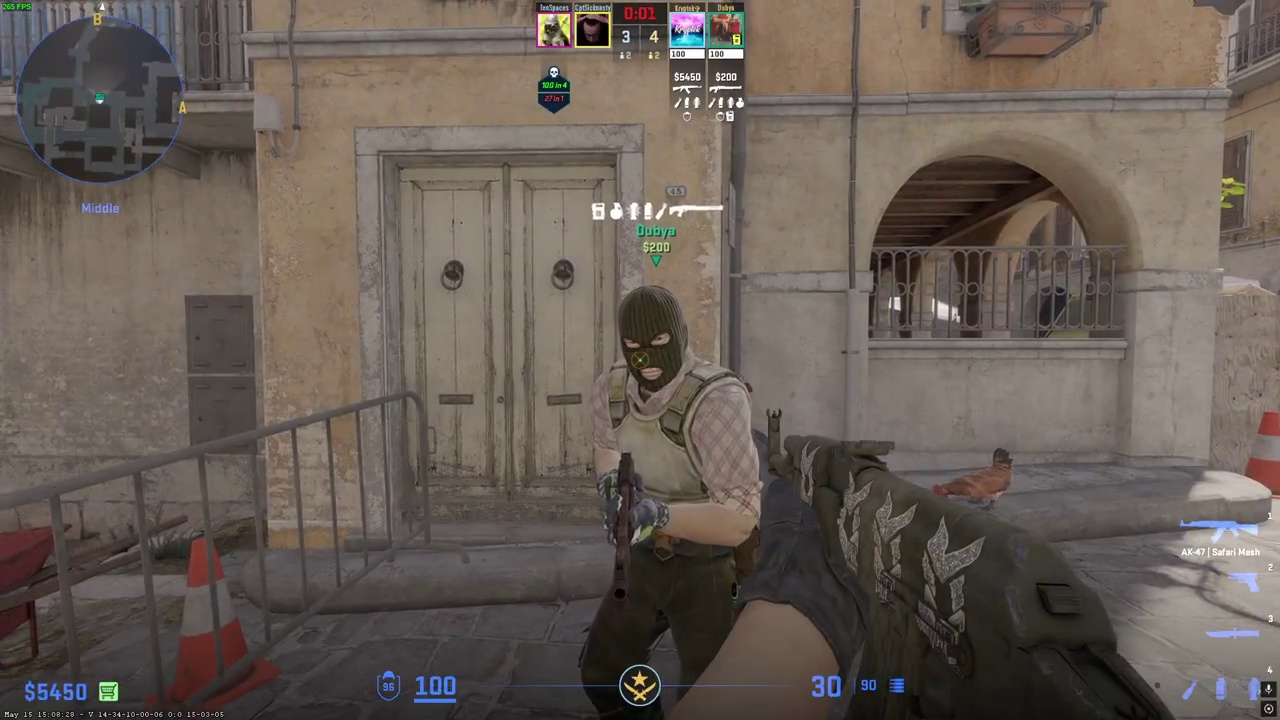Terrorist: (577, 286, 764, 712)
